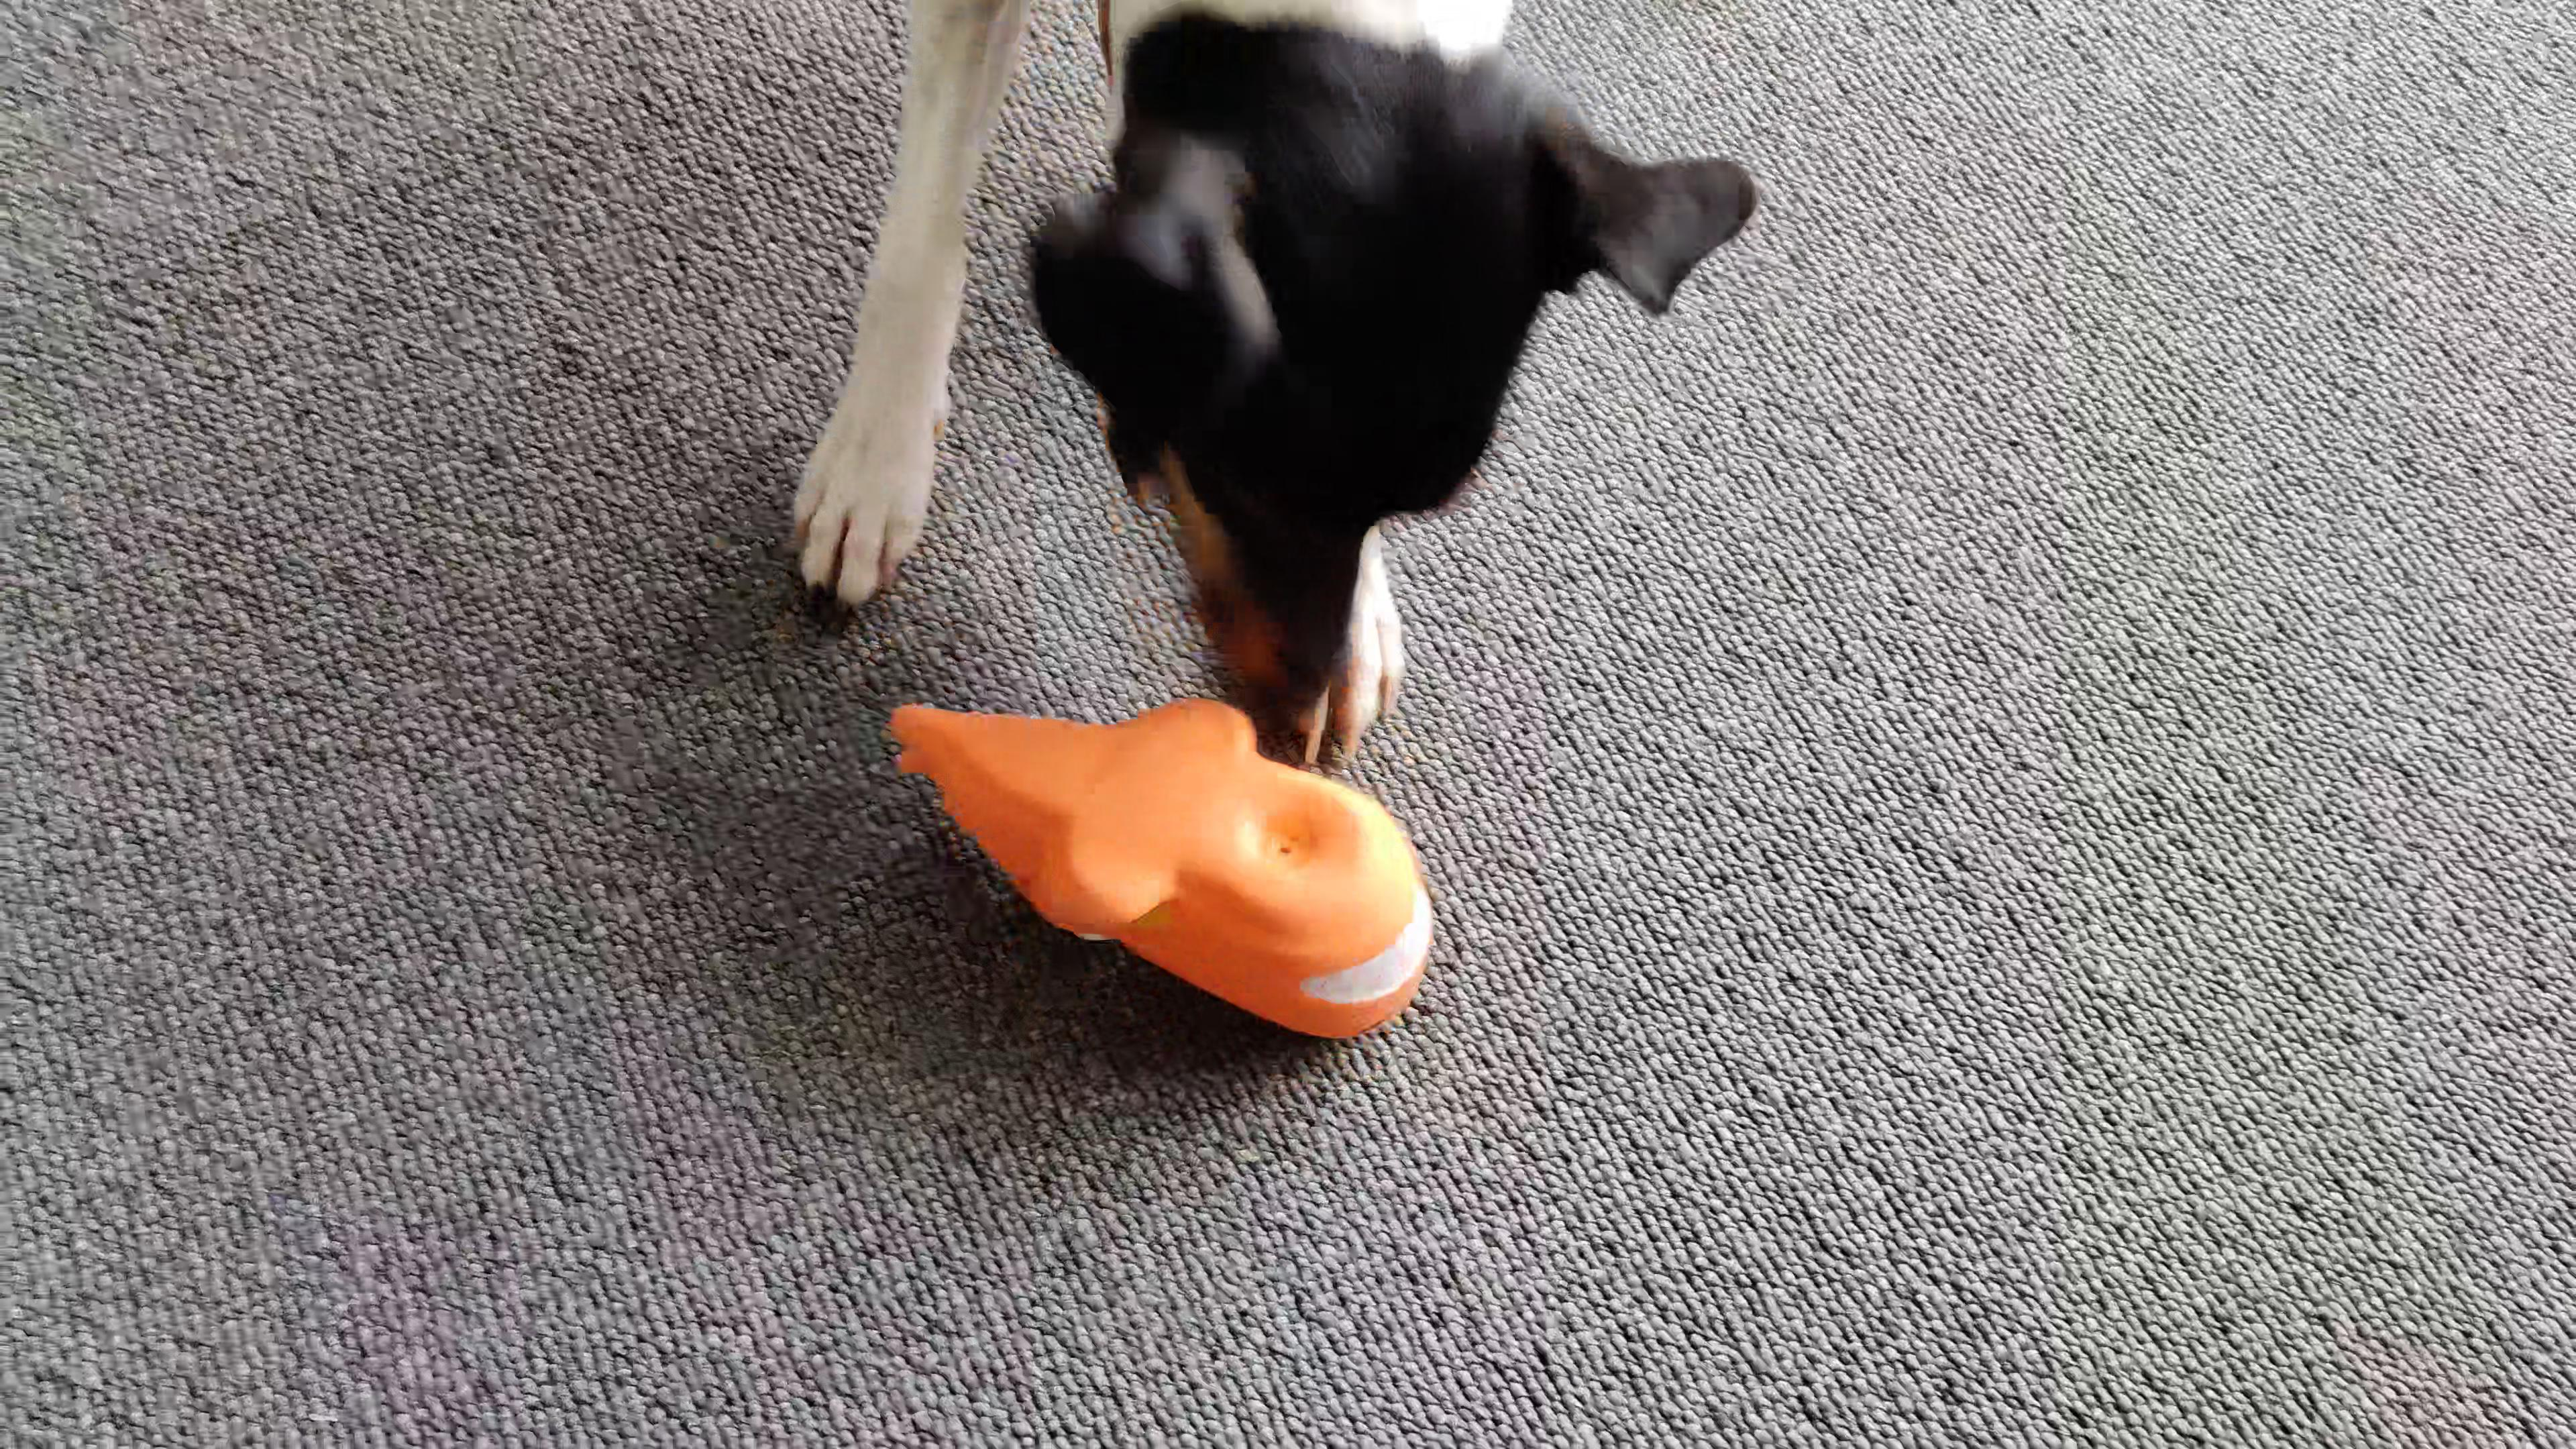Dog: (768, 0, 1778, 763)
